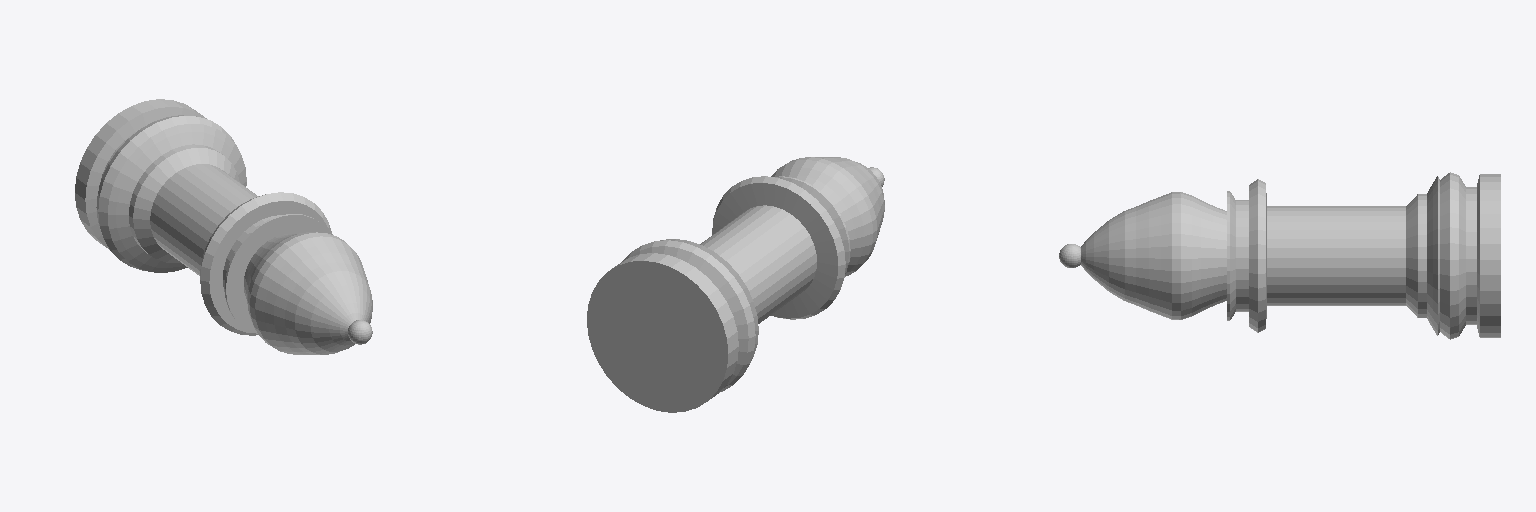
The model's file is bishop.obj.
3 renders of one model, left to right at view 1: azimuth 30°, elevation 25°; view 2: azimuth 150°, elevation 25°; view 3: azimuth 270°, elevation 25°, orthographic.
Visible parts, largest first — view 1: Cylinder; view 2: Cylinder; view 3: Cylinder.
Part boxes in pixels (bbox=[...]): Cylinder: bbox=[75, 99, 372, 354]; Cylinder: bbox=[587, 157, 884, 412]; Cylinder: bbox=[1059, 172, 1500, 339].
Bounding box in the file's own units: 2.05 × 2.05 × 5.4.